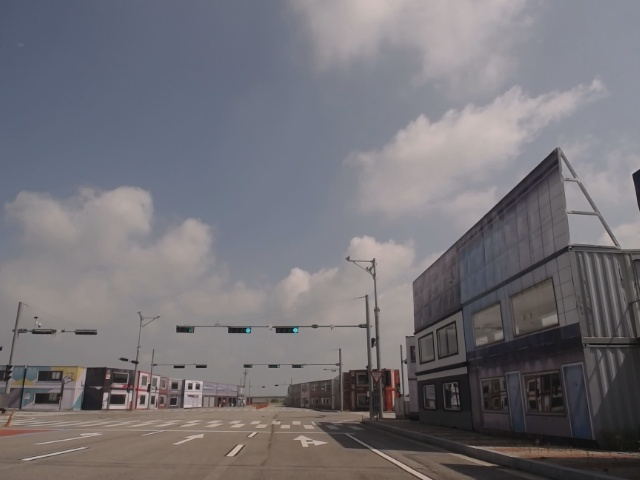straight_green_4: (229, 326, 253, 335), (276, 326, 300, 334)
